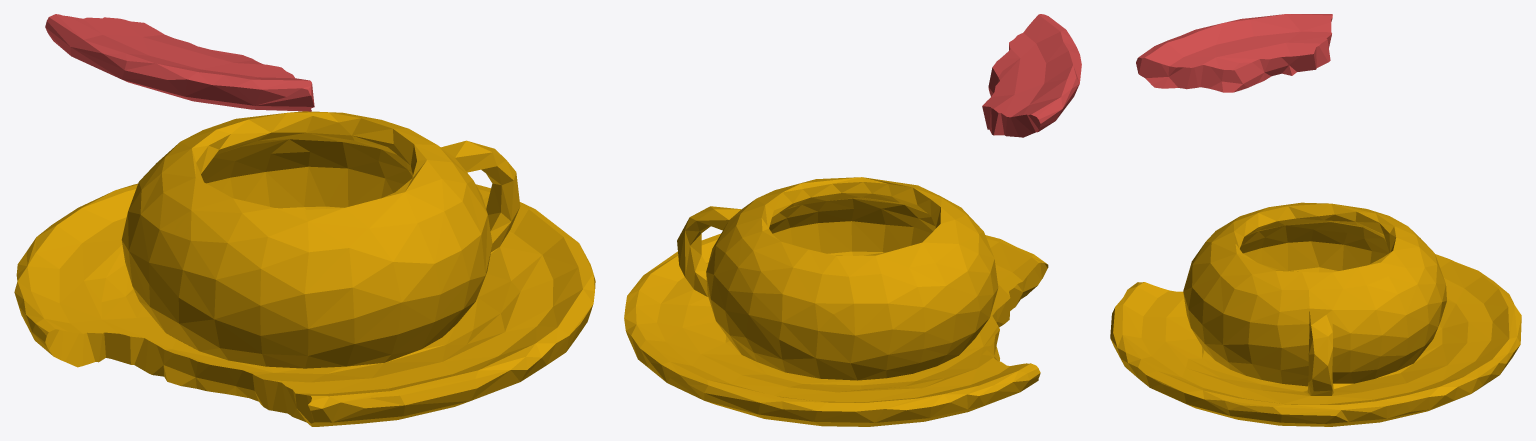
File: fractured_47_2pcs_transformed.glb
3 views of the same model, side by side, from view 1: azimuth 30°, elevation 25°; view 2: azimuth 150°, elevation 25°; view 3: azimuth 270°, elevation 25° (orthographic). The views are drawn at different scales.
Parts seen in each view (by area): view 1: piece_0.obj, piece_1.obj; view 2: piece_0.obj, piece_1.obj; view 3: piece_0.obj, piece_1.obj.
Boxes of the visible parts, x1,y1,x2,y2 form: piece_0.obj: (14, 111, 595, 426); piece_1.obj: (45, 14, 314, 111); piece_0.obj: (624, 177, 1048, 426); piece_1.obj: (982, 14, 1081, 137); piece_0.obj: (1110, 202, 1521, 426); piece_1.obj: (1136, 14, 1332, 92).
Bounding box in the file's own units: 1 × 0.7047 × 0.9986.
